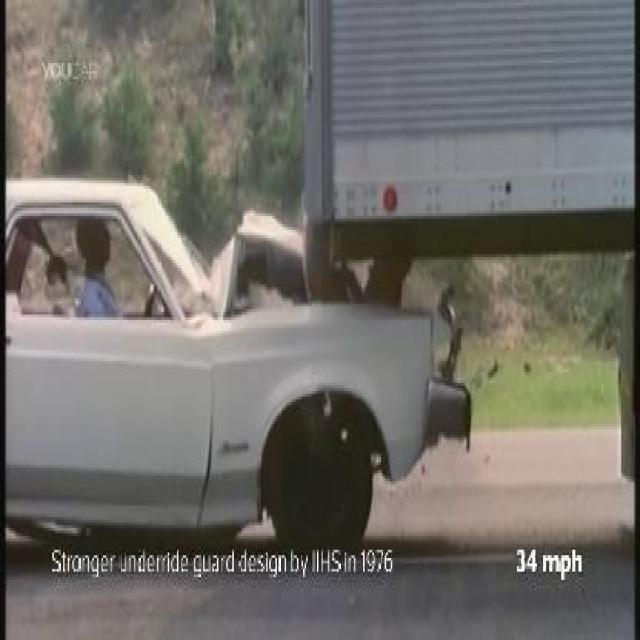accident: (3, 0, 637, 561)
